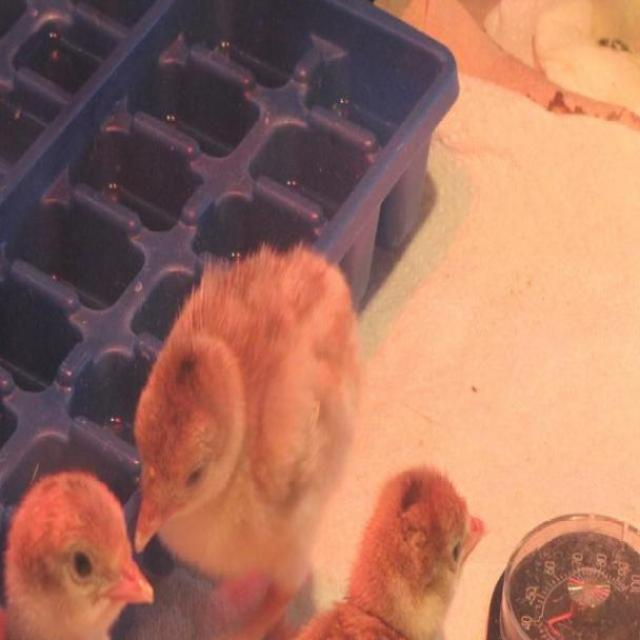Chicken: (133, 252, 366, 599), (325, 461, 478, 640), (0, 470, 153, 638)
